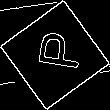P_W: (27, 32, 83, 78)
